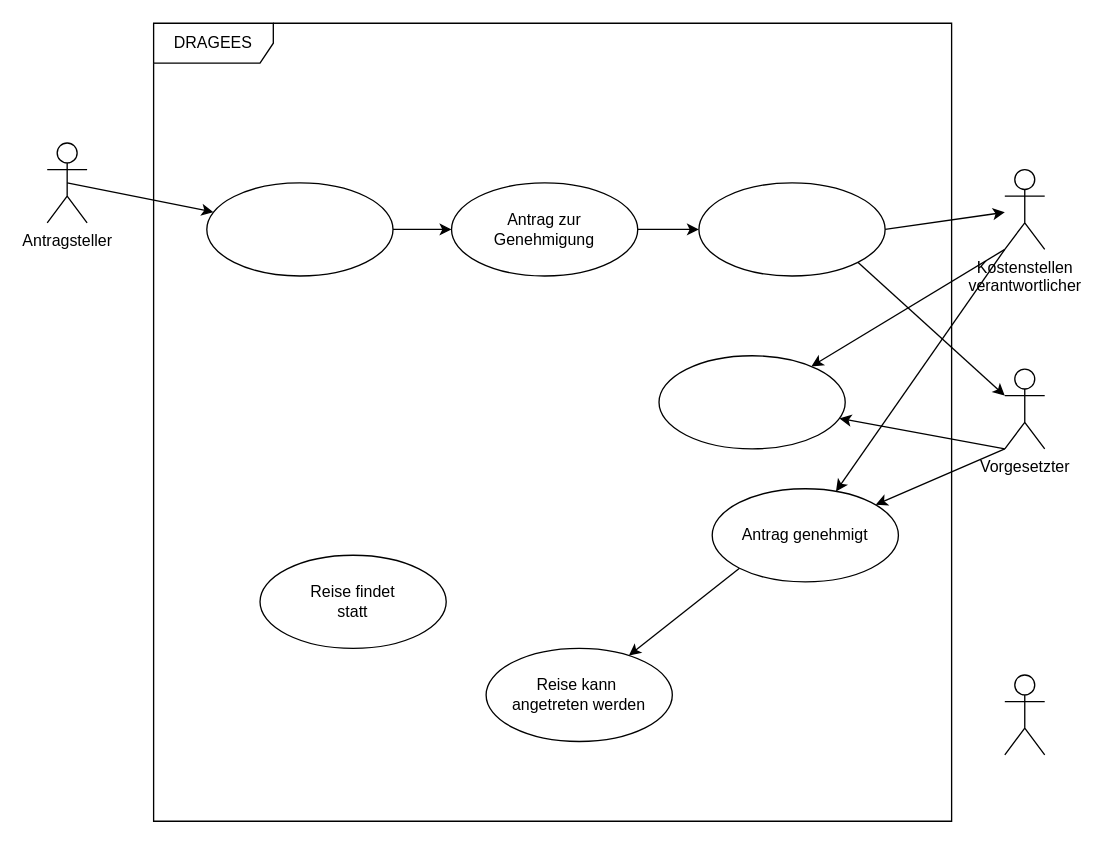
This 1104x845 diagram has some shape labels left out. The shapes that lost their labels are listed below. From the top down, each one's centre as x and y in pixels, then its label:
At (x=299, y=229): "Dienstreiseantrag stellen".
At (x=791, y=229): "Benachrichtung über E-Mail oder SMS".
At (x=751, y=401): "Antrag abgelehnt".
At (x=1024, y=714): "Reisebüro (Hochschule)".
